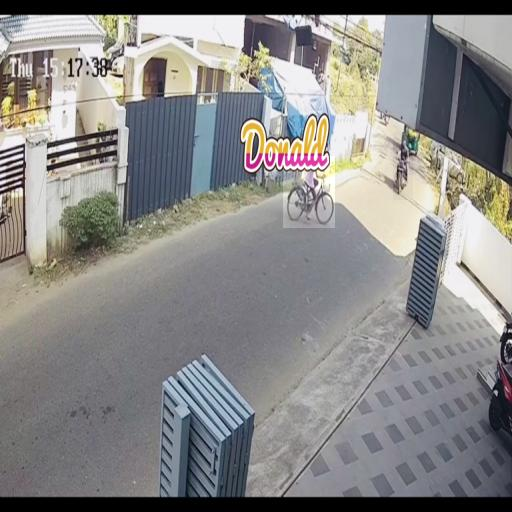自行车: (283, 156, 335, 228), (394, 132, 414, 200)
